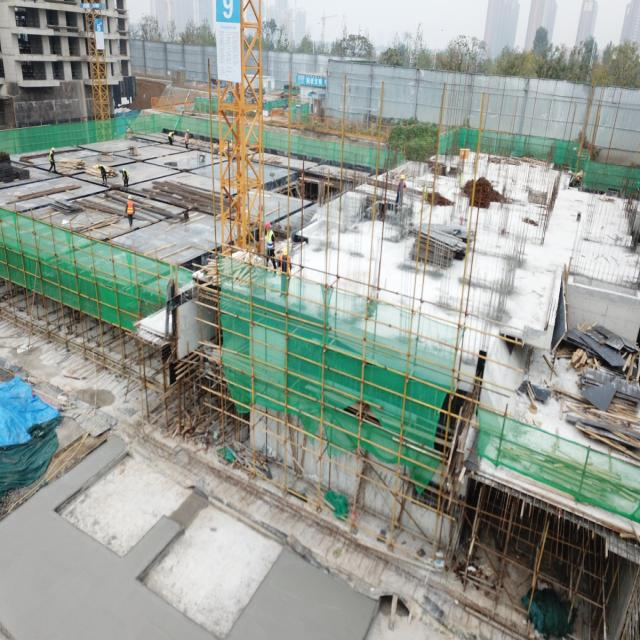crane: (216, 0, 265, 257), (84, 0, 112, 142)
